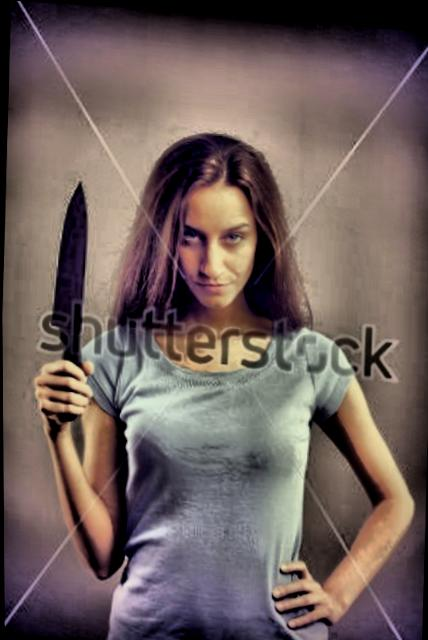knife: (26, 166, 103, 403)
